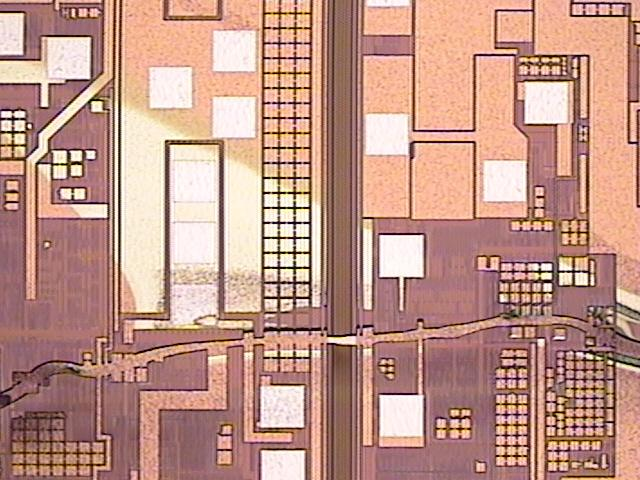BLOCK ETCH: (1, 12, 640, 413)
